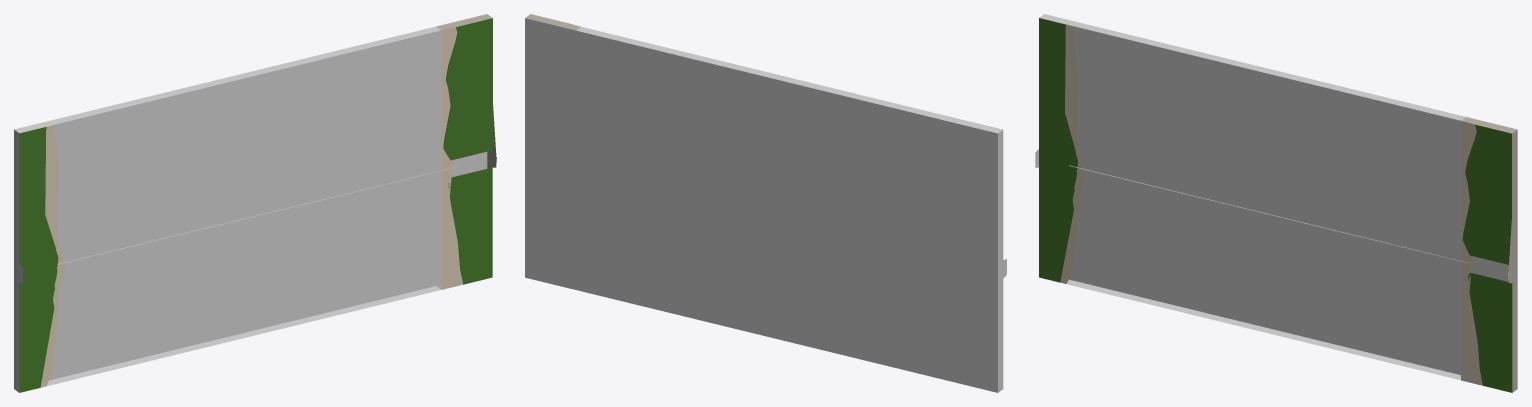
Rendered from env_terrain.obj.
3 renders of one model, left to right at view 1: azimuth 30°, elevation 25°; view 2: azimuth 150°, elevation 25°; view 3: azimuth 330°, elevation 25°, orthographic.
Parts seen in each view (by area): view 1: FrontColor, _19, _18, _8; view 2: FrontColor; view 3: FrontColor, _19, _18, _8.
Part boxes in pixels (x1,y1,x2,y2): FrontColor: (14,26,496,392); _19: (19,18,492,392); _18: (40,27,462,387); _8: (436,14,496,289); FrontColor: (525,18,1006,392); FrontColor: (1035,14,1508,380); _19: (1039,18,1512,392); _18: (1060,24,1482,385); _8: (1461,117,1517,392).
Bounding box in the file's own units: 341 × 179 × 12.04.
